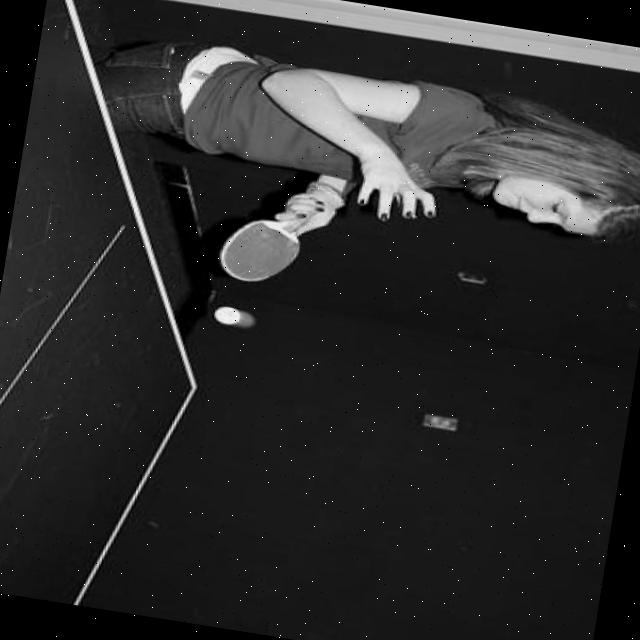ping-pong-ball: (214, 304, 243, 328)
